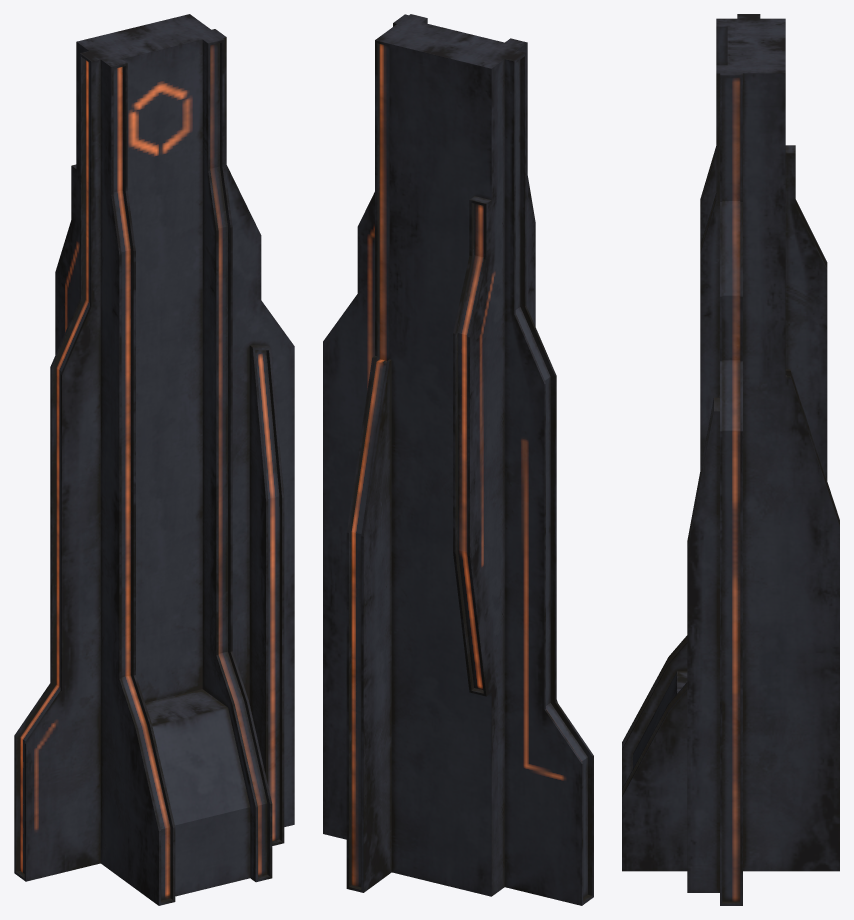
Rendered from Scifi-Building_06.glb.
3 views of the same model, side by side, from view 1: azimuth 30°, elevation 25°; view 2: azimuth 150°, elevation 25°; view 3: azimuth 270°, elevation 25° (orthographic). The views are drawn at different scales.
Parts seen in each view (by area): view 1: SB_06; view 2: SB_06; view 3: SB_06.
Part boxes in pixels (<box>): SB_06: <box>14,14,294,905</box>; SB_06: <box>323,14,593,905</box>; SB_06: <box>622,14,839,905</box>.
Size of the model in its own units: 24.45 by 72.21 by 17.87.
Materials: 1 (1 with a texture image).
